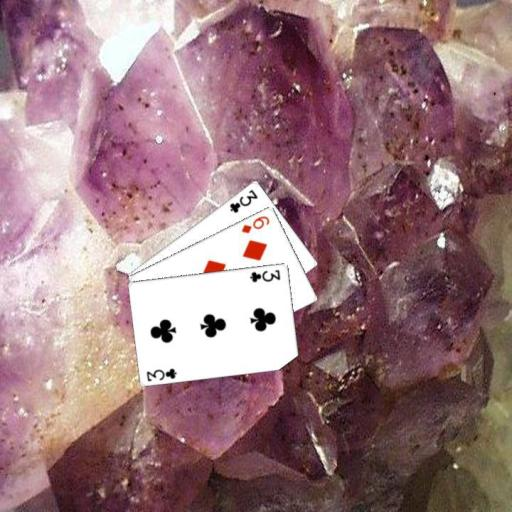3C: (226, 186, 260, 214), (247, 266, 282, 284), (144, 365, 179, 383)
6D: (238, 213, 271, 235)
